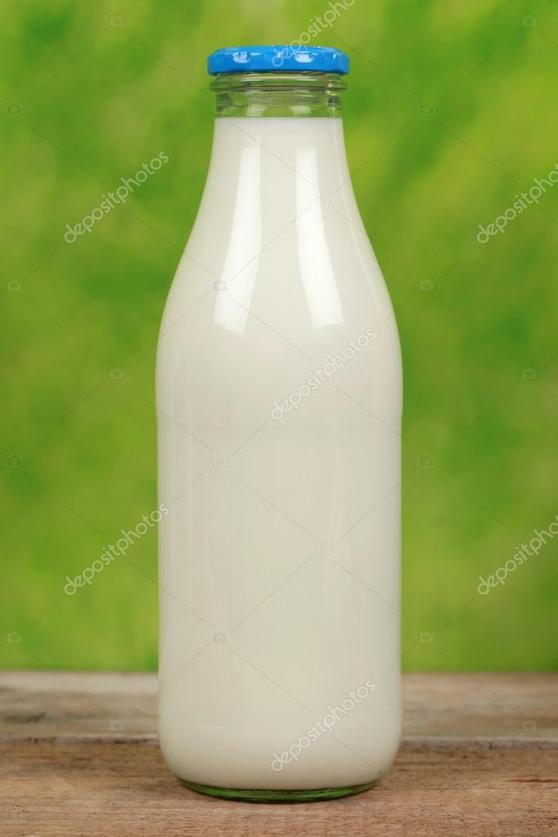milk: (147, 34, 411, 805)
